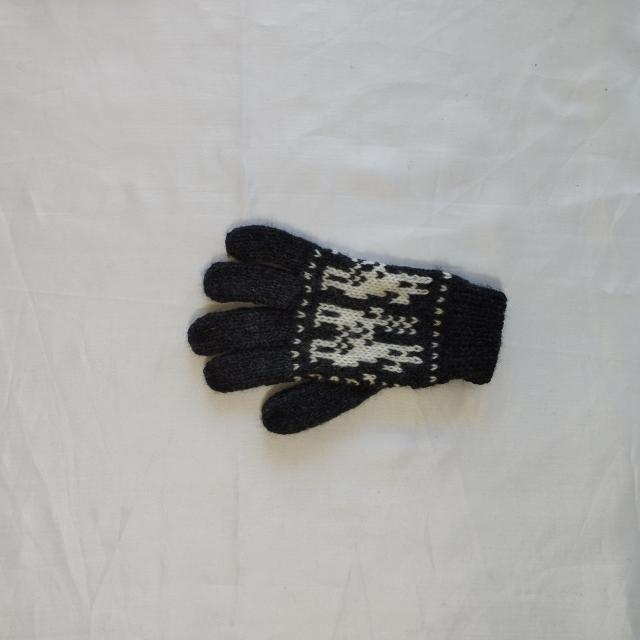Guante: (186, 222, 508, 436)
